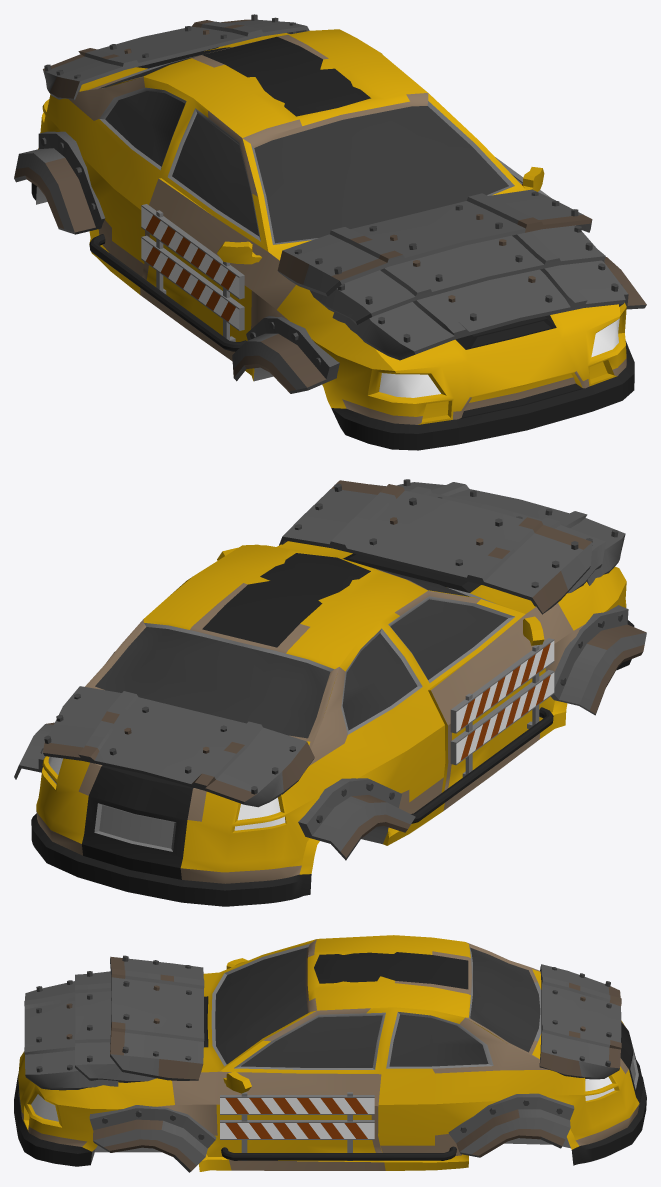
Rendered from sports_armored_lev1.glb.
3 renders of one model, top to bottom at view 1: azimuth 30°, elevation 25°; view 2: azimuth 150°, elevation 25°; view 3: azimuth 270°, elevation 25°, orthographic. The views are drawn at different scales.
Parts seen in each view (by area): view 1: sports_armored_lev1; view 2: sports_armored_lev1; view 3: sports_armored_lev1.
Part boxes in pixels (left/top/right/bottom): sports_armored_lev1: left=14, top=14, right=646, bottom=450; sports_armored_lev1: left=14, top=479, right=646, bottom=906; sports_armored_lev1: left=14, top=935, right=646, bottom=1172.
Bounding box in the file's own units: 2.98 × 1.46 × 5.7.
Materials: 3 (1 with a texture image).
